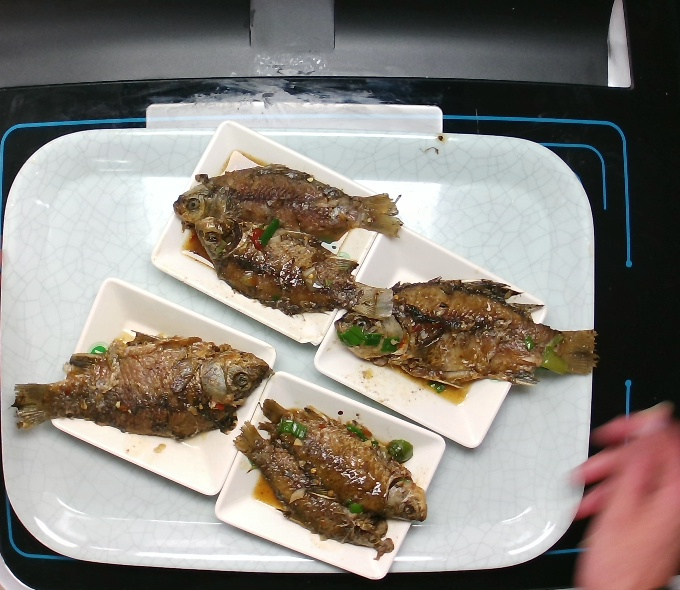wcq-JiYu: (168, 148, 410, 323), (309, 267, 633, 397), (227, 387, 434, 554), (8, 321, 270, 438)
